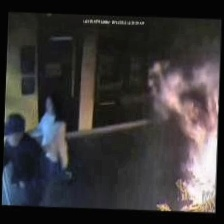fire: (149, 49, 224, 216)
